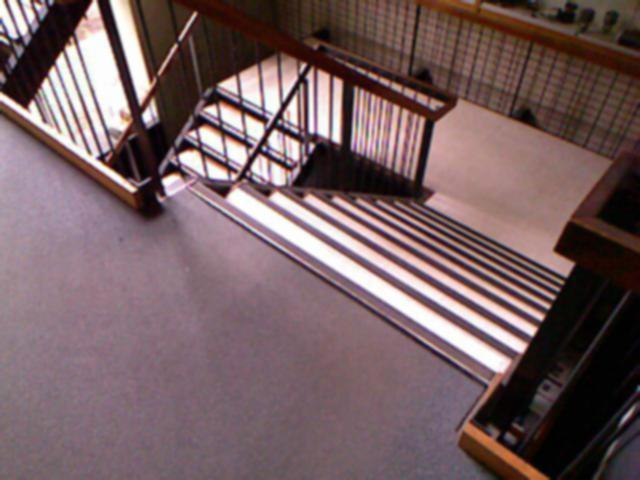Escaleras: (221, 176, 621, 417), (70, 103, 328, 267), (0, 0, 96, 135)
